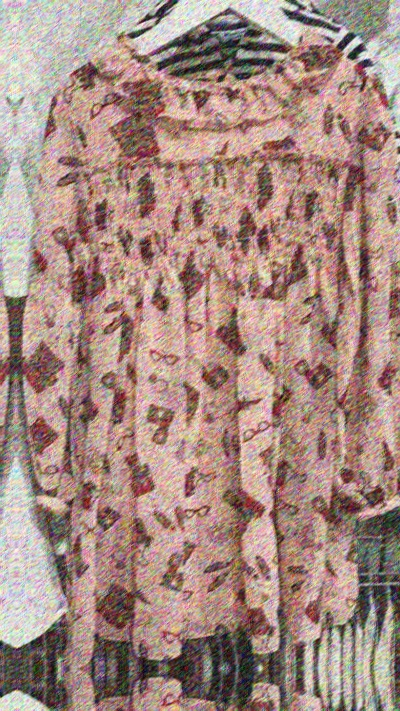Dress: (35, 33, 400, 648), (37, 690, 400, 711)
